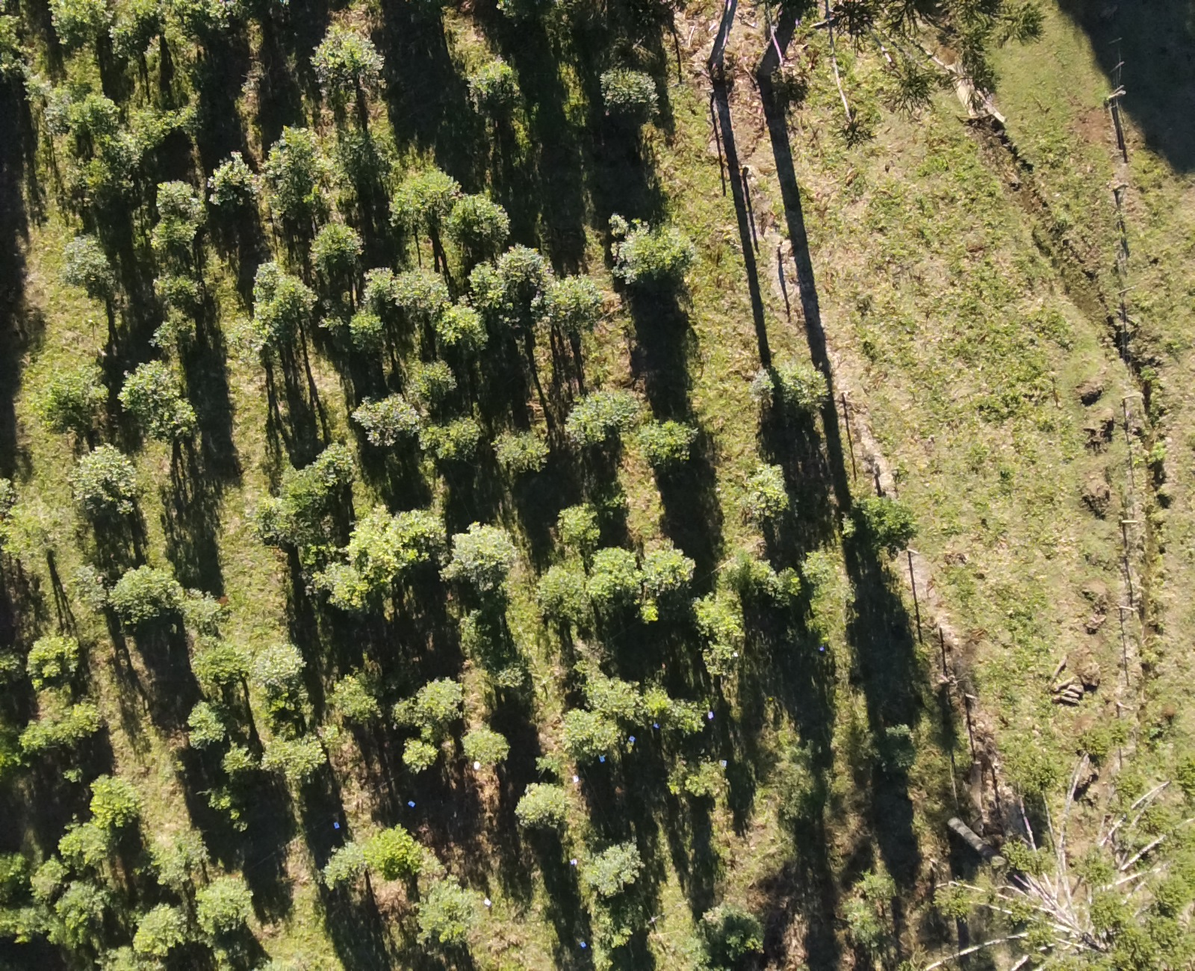erva: (30, 353, 120, 435), (71, 443, 152, 524), (447, 520, 530, 596), (386, 155, 457, 242), (839, 483, 921, 552), (591, 60, 665, 133), (456, 59, 536, 124), (346, 509, 411, 588), (627, 534, 703, 597), (114, 362, 189, 425), (440, 191, 518, 251), (350, 391, 418, 458), (620, 418, 709, 469), (579, 837, 657, 895), (400, 878, 490, 928), (193, 877, 261, 943), (307, 558, 372, 627), (599, 214, 662, 283), (574, 657, 644, 718), (737, 545, 803, 606), (107, 565, 173, 625), (59, 239, 124, 299), (386, 258, 452, 316), (538, 563, 596, 628), (489, 423, 555, 480), (323, 40, 390, 95), (733, 468, 799, 523), (277, 462, 337, 522), (323, 835, 385, 893), (415, 414, 481, 468), (302, 220, 369, 273), (561, 705, 624, 760), (372, 824, 432, 881), (9, 506, 71, 561), (590, 535, 638, 606), (391, 501, 449, 558), (62, 156, 117, 216), (552, 500, 618, 550), (184, 635, 241, 692), (784, 355, 838, 415), (461, 263, 523, 315), (559, 379, 600, 457), (196, 148, 252, 205), (142, 265, 215, 308), (30, 85, 85, 142), (540, 288, 608, 334), (269, 279, 317, 341), (132, 897, 184, 954), (680, 598, 760, 634), (260, 125, 312, 179), (180, 699, 235, 750), (586, 384, 654, 424), (402, 357, 461, 403), (316, 444, 365, 499), (60, 815, 116, 863), (20, 632, 74, 680), (517, 781, 571, 829), (675, 756, 732, 801), (459, 728, 515, 773), (254, 643, 305, 692), (439, 308, 496, 351), (93, 770, 136, 827), (139, 220, 207, 255), (85, 87, 133, 136), (111, 1, 148, 63), (55, 0, 101, 49), (197, 0, 243, 49), (509, 245, 555, 294), (161, 408, 207, 457), (327, 677, 376, 723), (338, 309, 388, 353), (31, 851, 74, 902), (60, 686, 97, 745), (151, 179, 196, 227), (416, 674, 460, 723), (273, 736, 327, 775), (140, 100, 192, 140), (700, 639, 741, 687), (180, 588, 223, 633), (18, 716, 66, 755), (360, 259, 400, 305), (0, 902, 48, 940), (242, 255, 293, 290), (149, 313, 190, 356), (240, 312, 277, 359), (664, 691, 704, 732), (99, 140, 145, 174), (73, 881, 108, 925), (144, 843, 184, 880), (392, 742, 438, 774), (102, 943, 156, 970), (221, 738, 256, 779), (662, 232, 697, 272), (0, 840, 25, 895), (740, 367, 773, 408), (628, 680, 665, 714), (388, 688, 418, 726), (263, 730, 287, 775), (440, 919, 475, 949), (184, 824, 211, 856)
